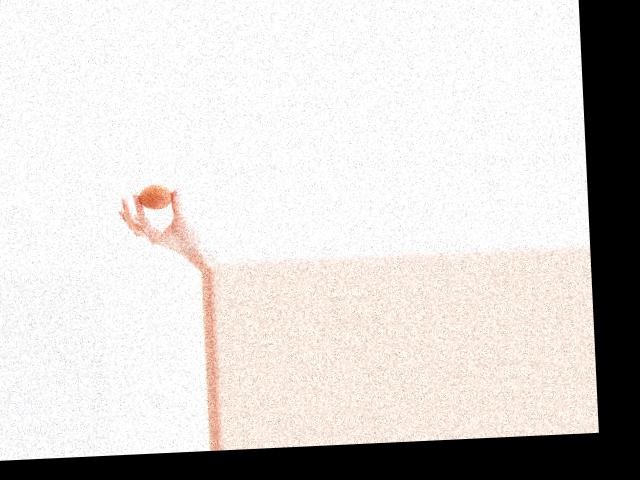egg: (138, 183, 173, 209)
